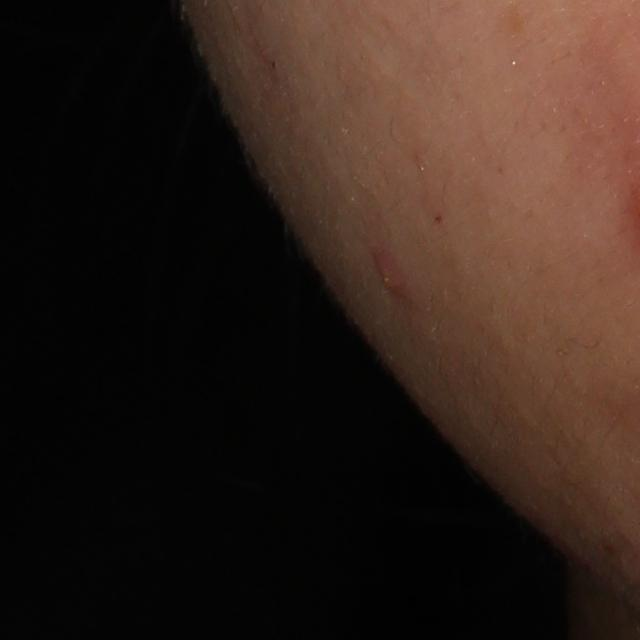papule: (374, 253, 411, 298)
